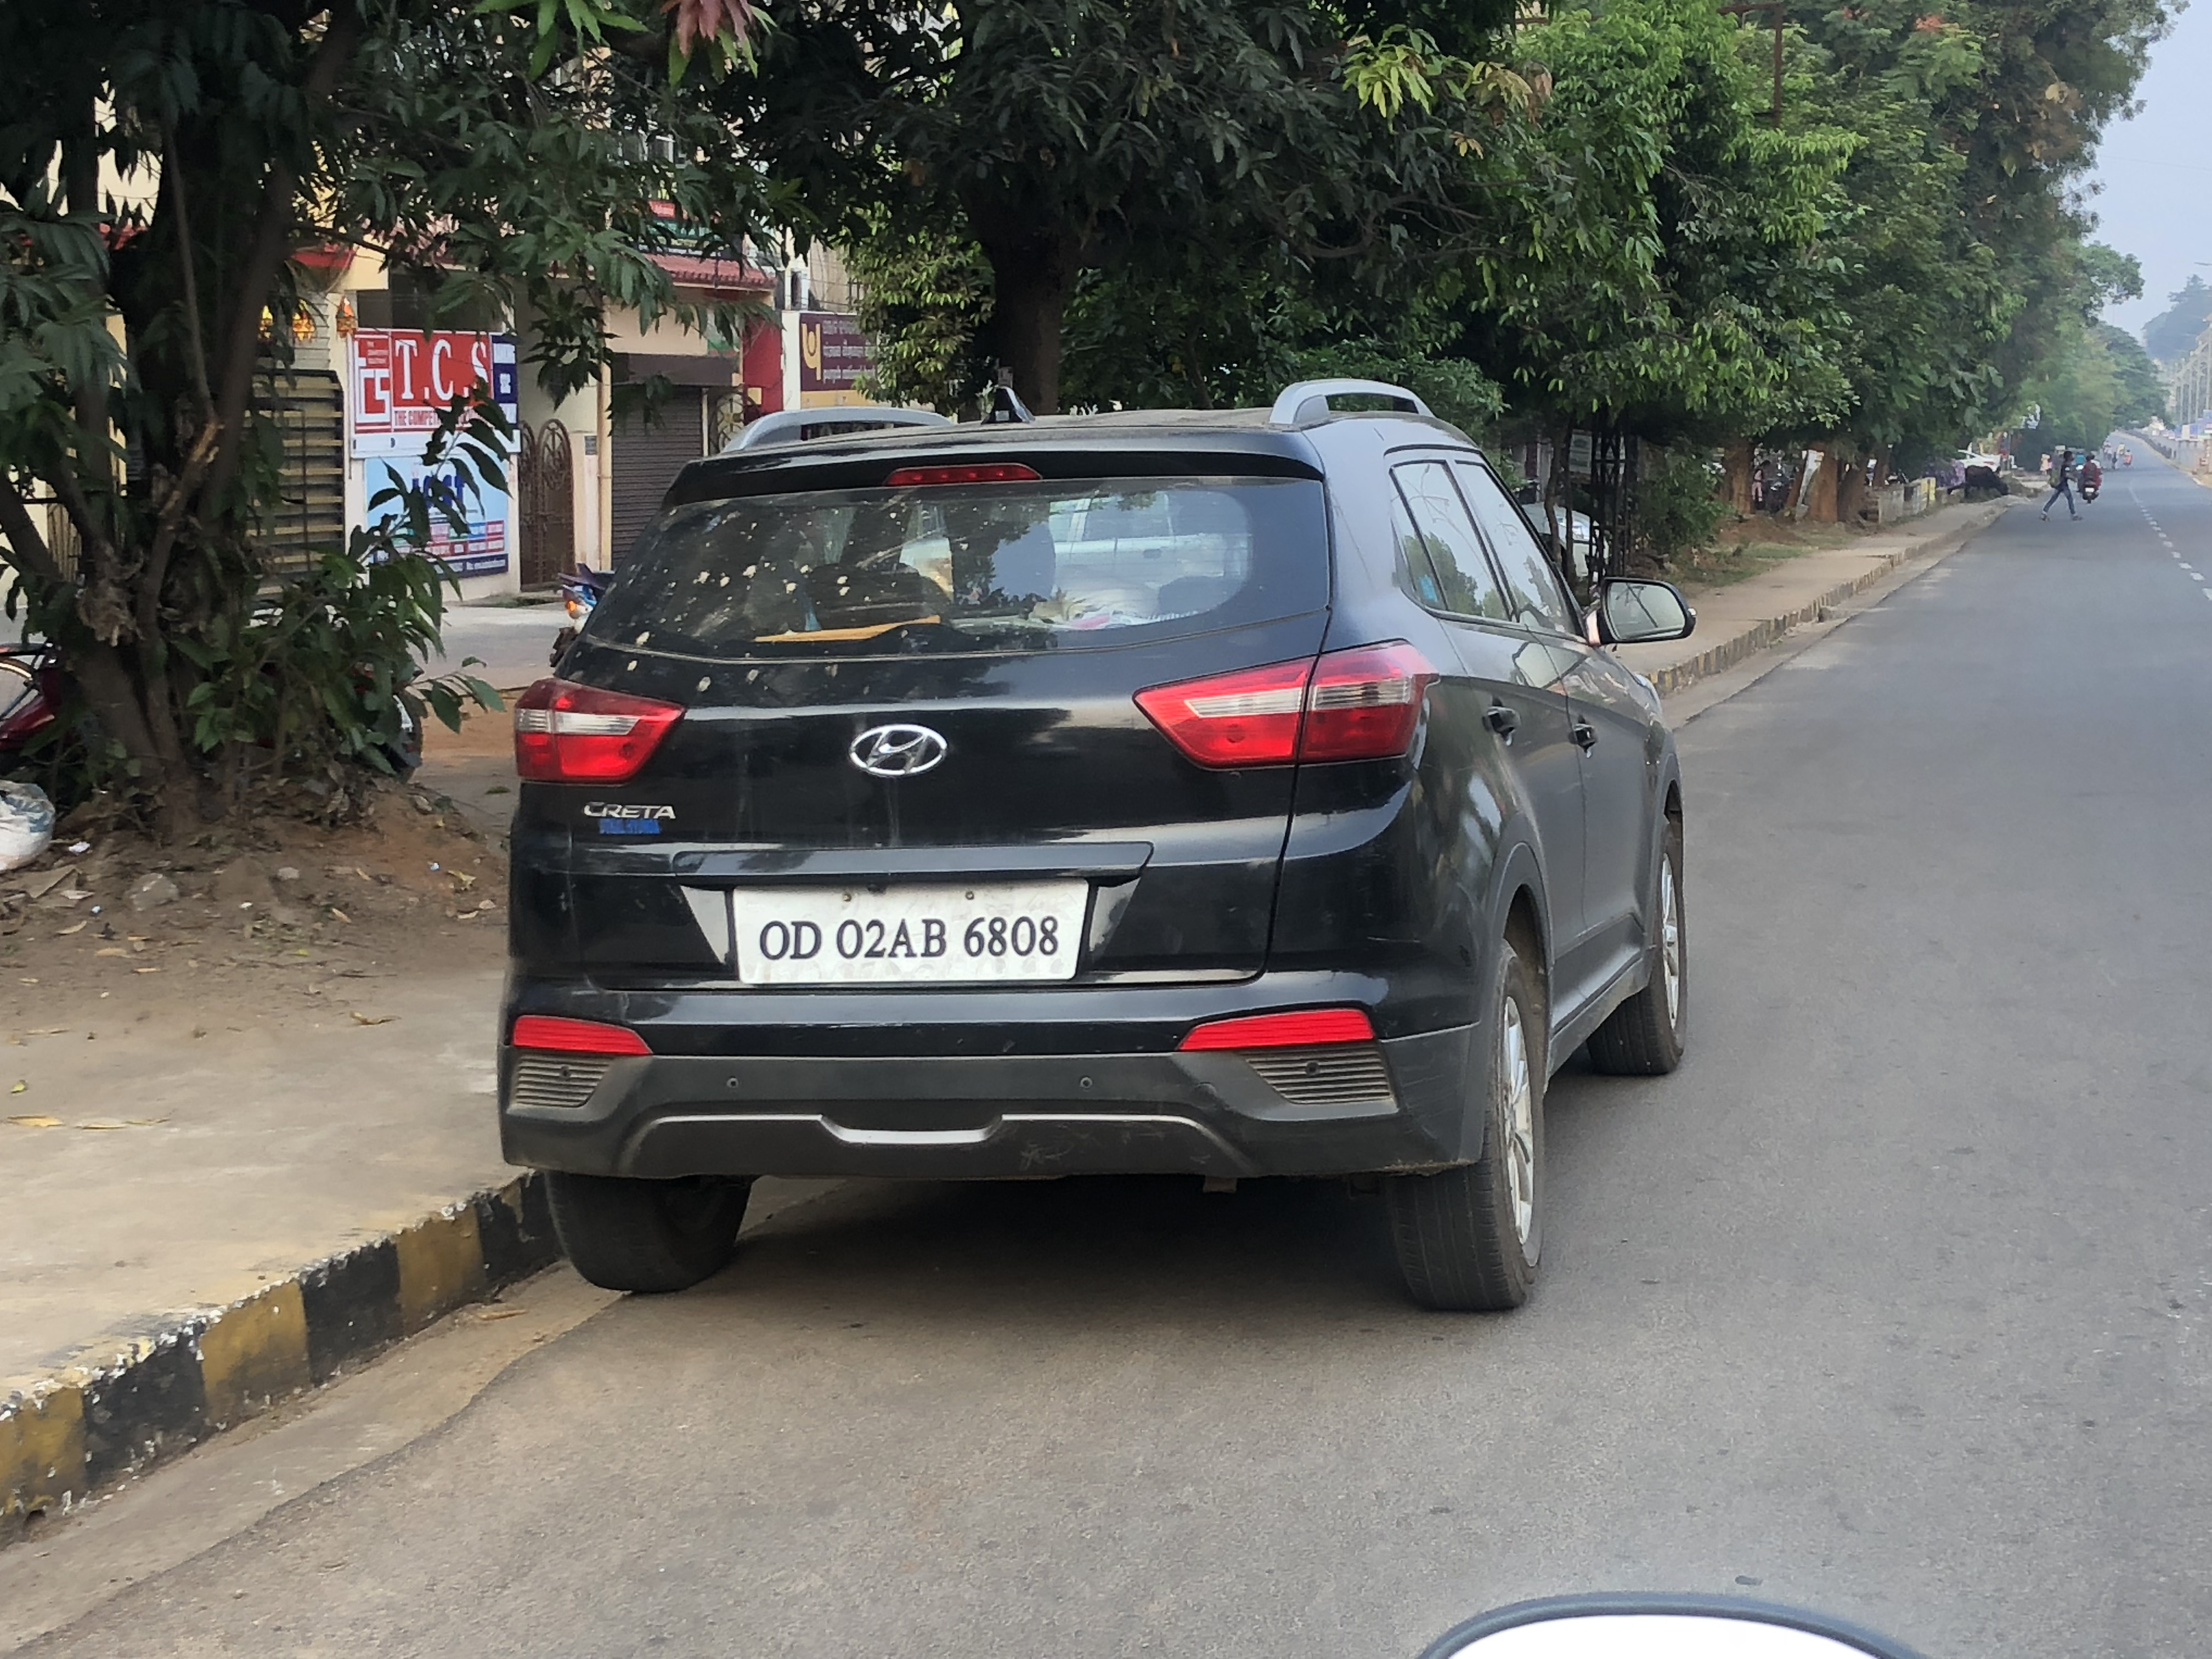licenseplate: (719, 861, 1090, 1000)
